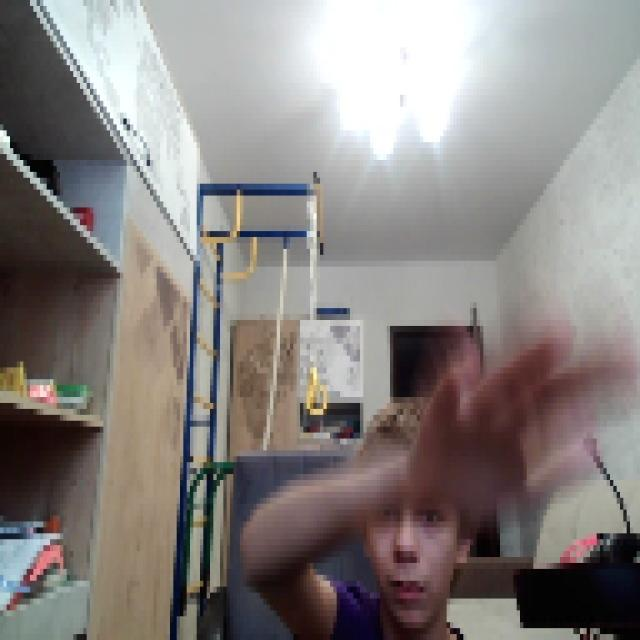hand: (397, 302, 633, 504)
